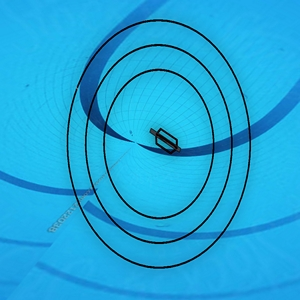circle: (66, 21, 250, 274)
submarine: (151, 125, 178, 154)
